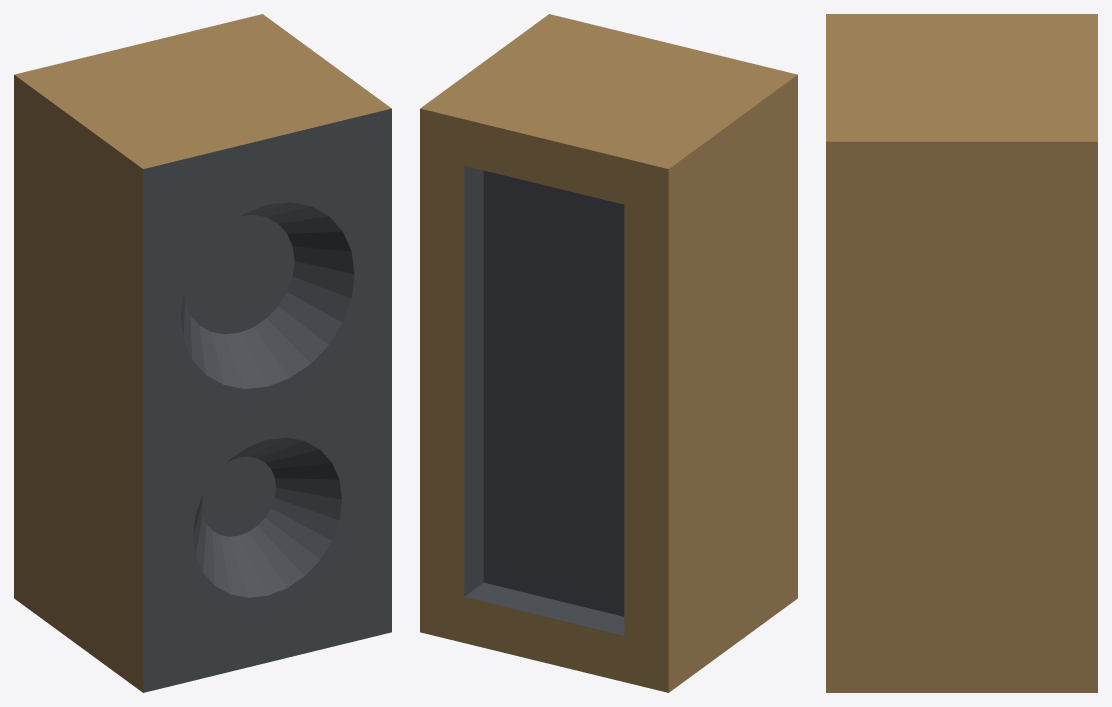
Rendered from speaker_small.glb.
The picture shows the model from 3 angles, left to right: view 1: azimuth 30°, elevation 25°; view 2: azimuth 150°, elevation 25°; view 3: azimuth 270°, elevation 25°; orthographic projection. The views are drawn at different scales.
Parts seen in each view (by area): view 1: speaker_small; view 2: speaker_small; view 3: speaker_small.
Boxes of the visible parts, <box> form: speaker_small: <box>14,14,391,692</box>; speaker_small: <box>420,14,797,692</box>; speaker_small: <box>826,14,1097,692</box>.
Bounding box in the file's own units: 0.1589 × 0.32 × 0.143.
